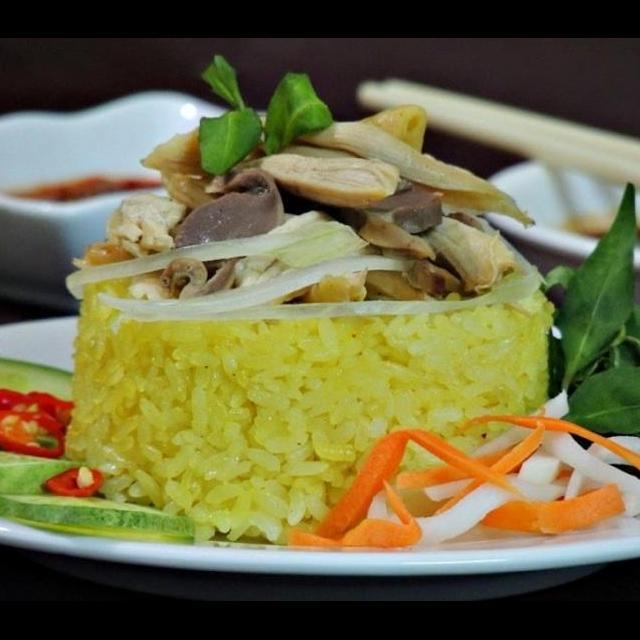com: (56, 244, 555, 546)
com ga: (0, 102, 640, 601)
rau ram: (531, 177, 640, 451), (190, 50, 337, 180)
thit ga: (135, 108, 538, 234), (226, 204, 367, 304), (216, 146, 405, 218), (401, 212, 527, 298), (102, 188, 198, 264)
